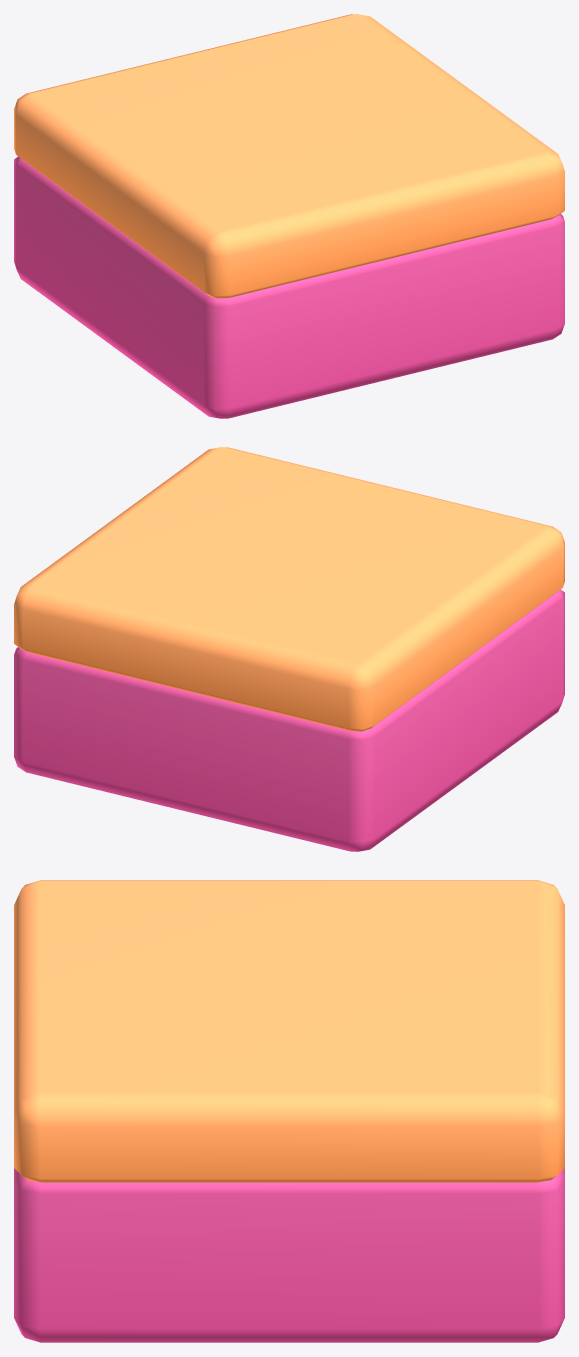
Rendered from Platform_02.glb.
3 views of the same model, one above another, from view 1: azimuth 30°, elevation 25°; view 2: azimuth 150°, elevation 25°; view 3: azimuth 270°, elevation 25° (orthographic). The views are drawn at different scales.
Visible parts, largest first — view 1: Platform_02; view 2: Platform_02; view 3: Platform_02.
Part boxes in pixels (x1,y1,x2,y2): Platform_02: [14, 14, 564, 418]; Platform_02: [14, 447, 564, 851]; Platform_02: [14, 880, 564, 1342].
Bounding box in the file's own units: 6 × 3 × 6.
1 material, 1 textured.
